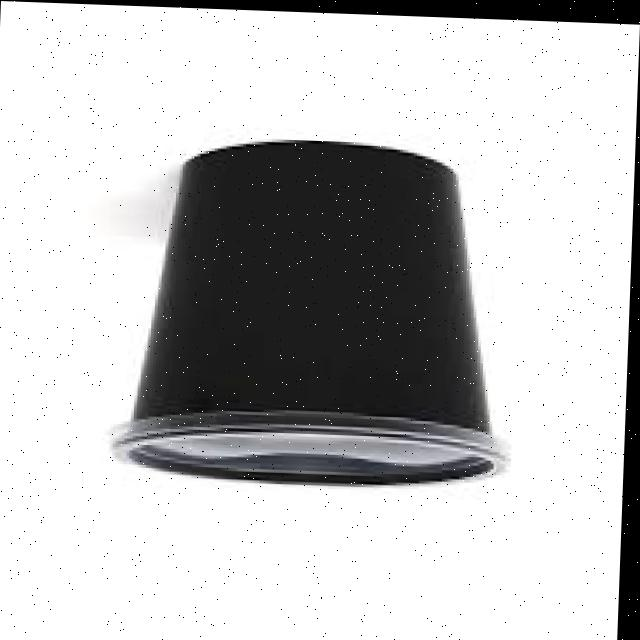disposable: (85, 126, 535, 508)
